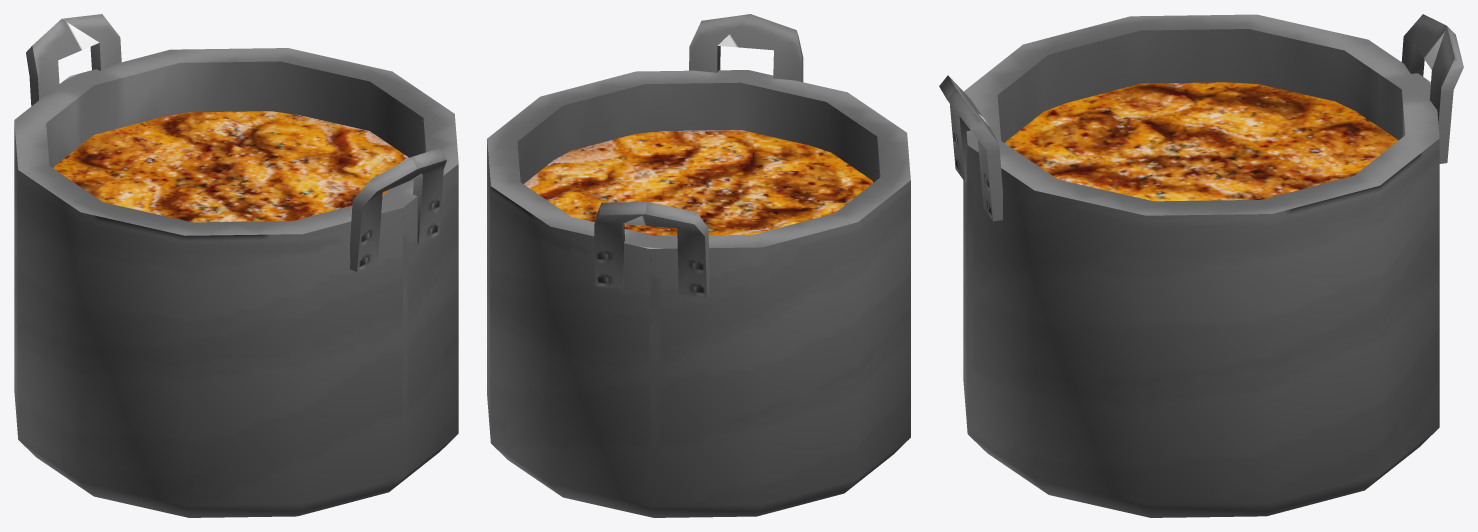
Rendered from VFX_PotFull.fbx.
3 renders of one model, left to right at view 1: azimuth 30°, elevation 25°; view 2: azimuth 150°, elevation 25°; view 3: azimuth 270°, elevation 25°, orthographic. The views are drawn at different scales.
Visible parts, largest first — view 1: Cooking Pot Full; view 2: Cooking Pot Full; view 3: Cooking Pot Full.
Boxes of the visible parts, <box> form: Cooking Pot Full: <box>14,14,458,517</box>; Cooking Pot Full: <box>487,14,910,517</box>; Cooking Pot Full: <box>939,14,1463,517</box>.
Size of the model in its own units: 0.2005 by 0.1713 by 0.221.
